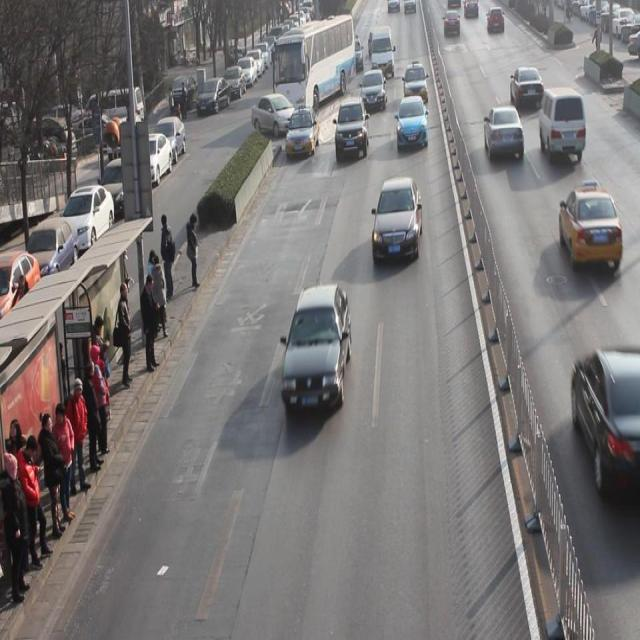car: (573, 346, 640, 500), (282, 284, 353, 413), (561, 185, 623, 271), (374, 178, 424, 266), (484, 105, 524, 163), (335, 98, 370, 160), (252, 92, 299, 138), (396, 95, 429, 152), (285, 107, 320, 156), (511, 67, 544, 113), (360, 68, 387, 113), (402, 62, 428, 106)
truck: (540, 85, 587, 163), (370, 26, 395, 79)
van: (274, 17, 355, 117)
